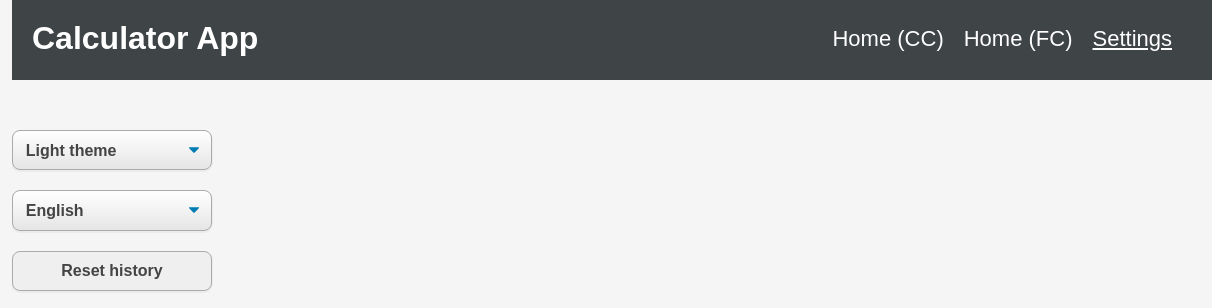
Test: Settings page tests › Language select works
The width and height of the screenshot is (1212, 308).
Select "Русский" in the dropdown with test id "language" at (112, 210), box top-left (12, 190), bottom-right (212, 230)
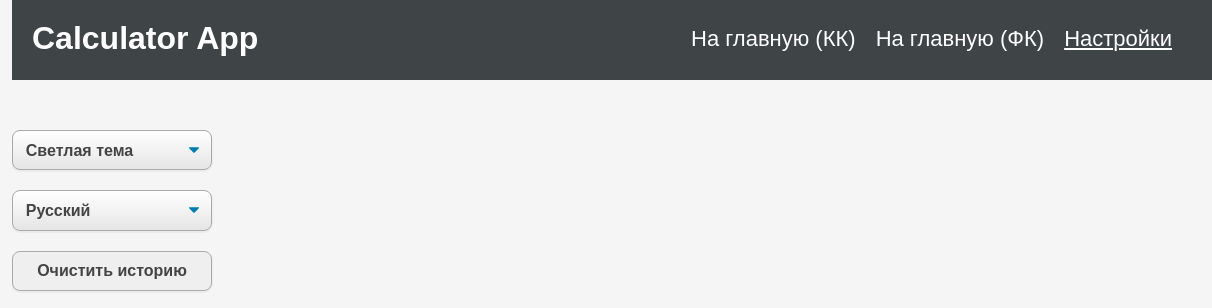
expect the button "Очистить историю" is shown: met, box top-left (12, 251), bottom-right (212, 291)
expect the link "Настройки" is shown: met, box top-left (1064, 26), bottom-right (1172, 50)
Select "English" in the dropdown with test id "language" at (112, 210), box top-left (12, 190), bottom-right (212, 230)
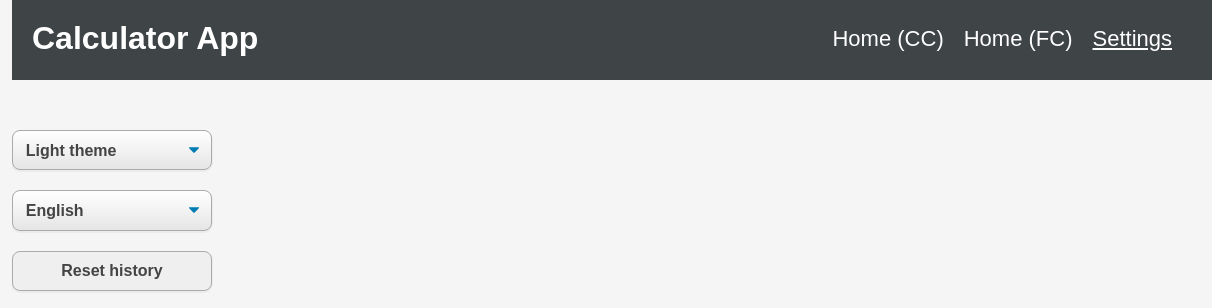
expect the link "Settings" is shown: met, box top-left (1092, 26), bottom-right (1172, 50)
expect the button "Reset history" is shown: met, box top-left (12, 251), bottom-right (212, 291)
